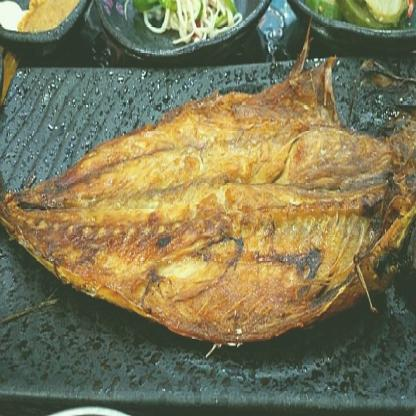Peixe: (0, 50, 416, 362)
